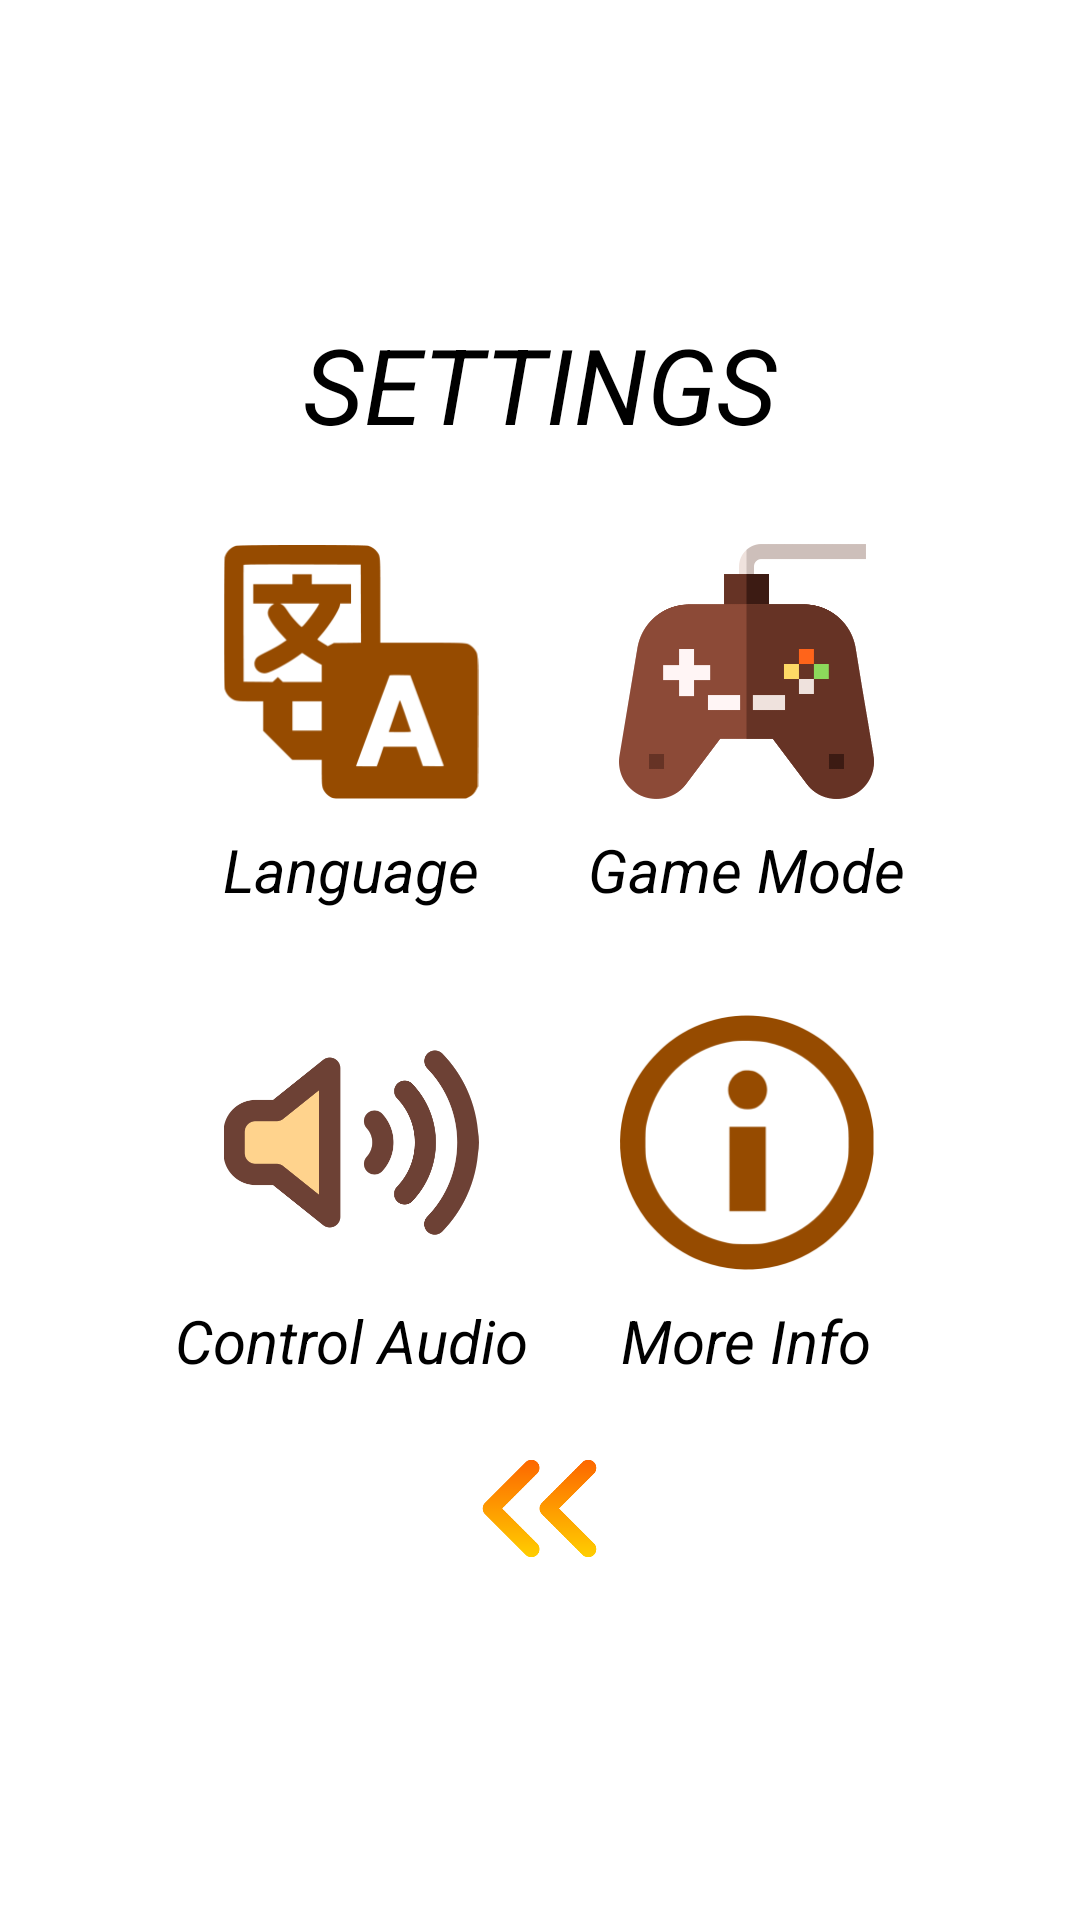

Named icons in this screenshot (1080w x 1920h) and their bounding boxes, Rect(x1, y1, x2, y2):
left: Rect(482, 1460, 597, 1557)
